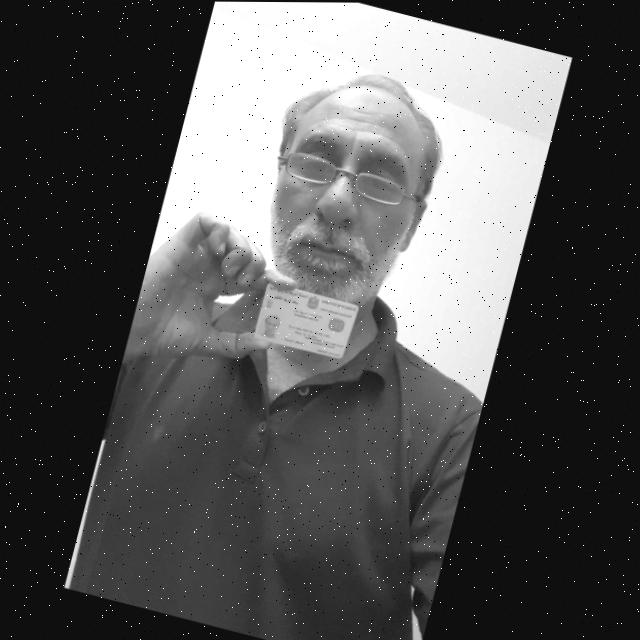card: (255, 284, 358, 358)
